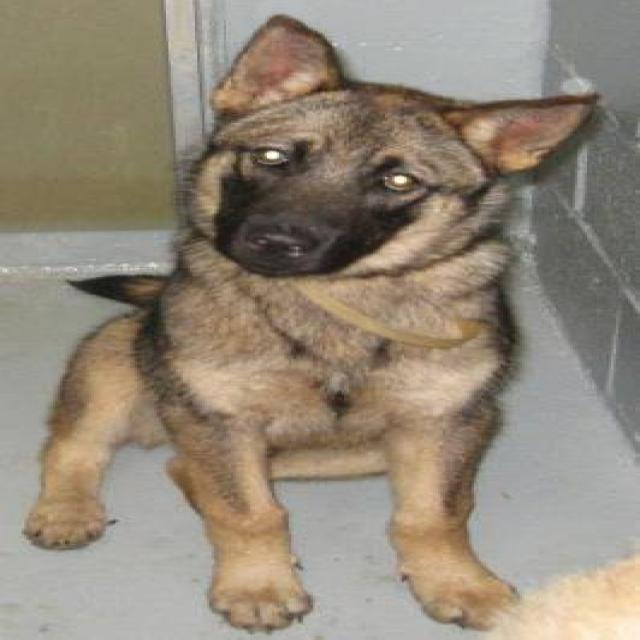dog: (19, 13, 599, 635)
